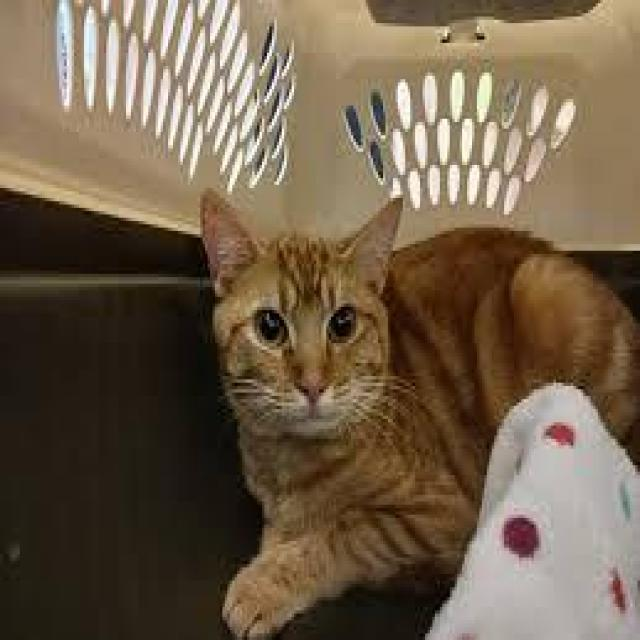Cat: (196, 180, 412, 440)
